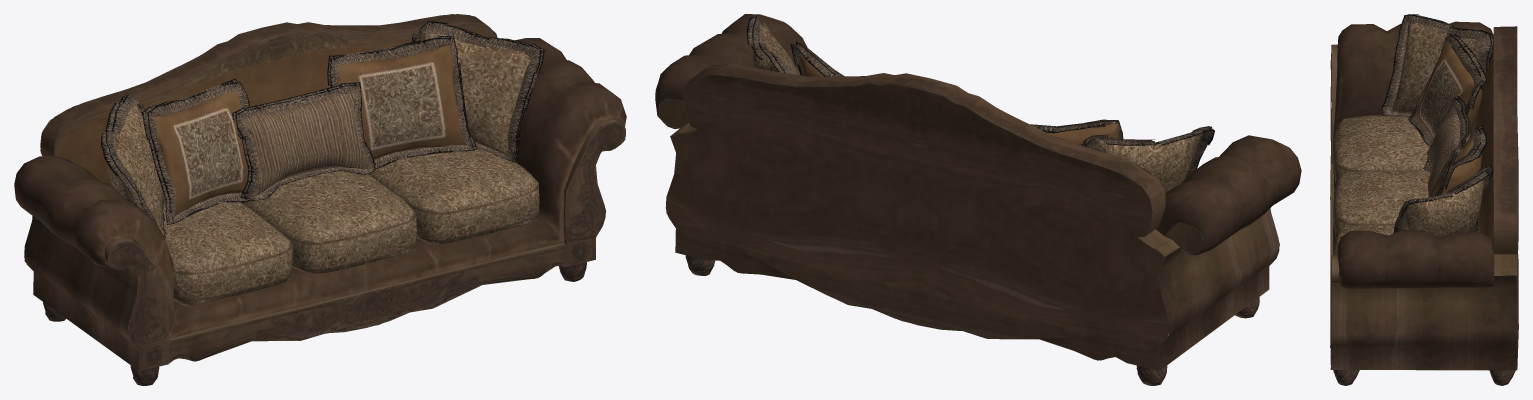
The model's file is sofa_03.glb.
The picture shows the model from 3 angles, left to right: view 1: azimuth 30°, elevation 25°; view 2: azimuth 150°, elevation 25°; view 3: azimuth 270°, elevation 25°; orthographic projection. The views are drawn at different scales.
Parts seen in each view (by area): view 1: sofa_03; view 2: sofa_03; view 3: sofa_03.
Part boxes in pixels (x1=…): sofa_03: x1=14, y1=14, x2=626, y2=385; sofa_03: x1=655, y1=14, x2=1301, y2=385; sofa_03: x1=1330, y1=14, x2=1518, y2=385.
Size of the model in its own units: 2.73 by 1.12 by 0.9249.
Materials: 2 (2 with a texture image).
